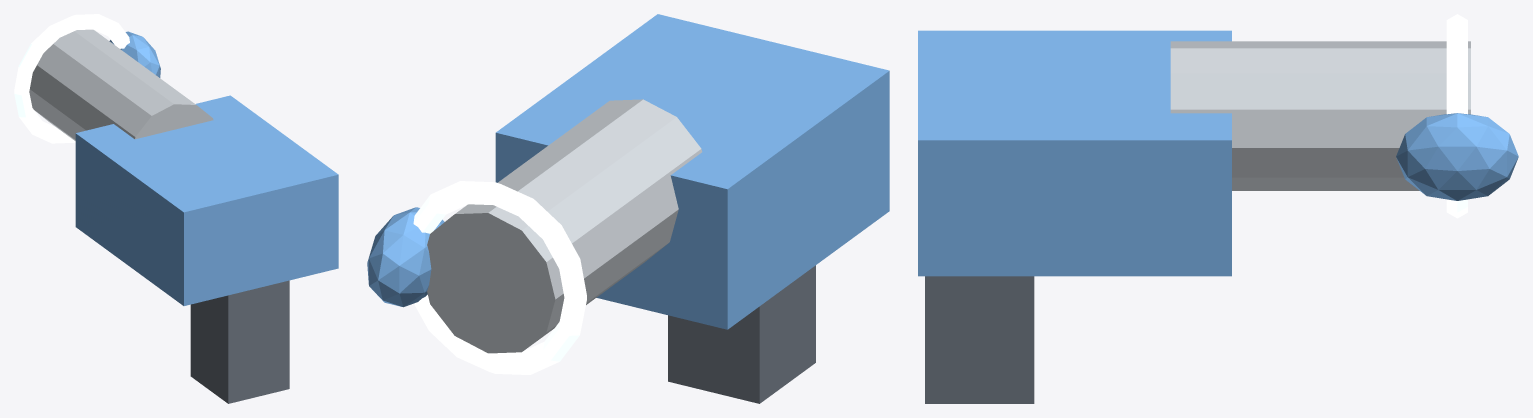
The model's file is pistola_3.glb.
3 renders of one model, left to right at view 1: azimuth 30°, elevation 25°; view 2: azimuth 150°, elevation 25°; view 3: azimuth 270°, elevation 25°, orthographic. The views are drawn at different scales.
Parts seen in each view (by area): view 1: cuerpo, cañon, empuñadura, bobina, punta; view 2: cuerpo, cañon, empuñadura, bobina, punta; view 3: cuerpo, cañon, empuñadura, punta, bobina.
Boxes of the visible parts, bbox=[...] form: cuerpo: bbox=[75, 95, 338, 305]; cañon: bbox=[29, 29, 213, 140]; empuñadura: bbox=[190, 280, 289, 403]; bobina: bbox=[14, 14, 129, 143]; punta: bbox=[109, 31, 160, 77]; cuerpo: bbox=[495, 14, 889, 329]; cañon: bbox=[427, 99, 702, 353]; empuñadura: bbox=[668, 265, 815, 403]; bobina: bbox=[413, 181, 586, 374]; punta: bbox=[367, 207, 444, 307]; cuerpo: bbox=[918, 30, 1231, 276]; cañon: bbox=[1170, 41, 1470, 190]; empuñadura: bbox=[925, 276, 1034, 403]; punta: bbox=[1396, 113, 1518, 200]; bobina: bbox=[1446, 14, 1467, 218].
Size of the model in its own units: 0.3886 by 0.5932 by 0.9.
